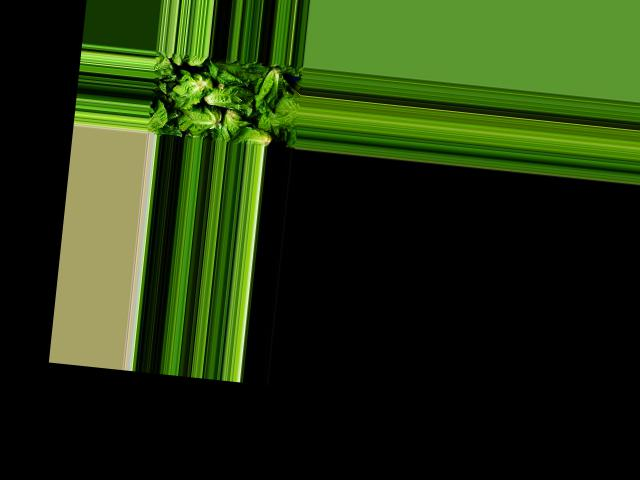lettuce: (228, 123, 279, 146)
